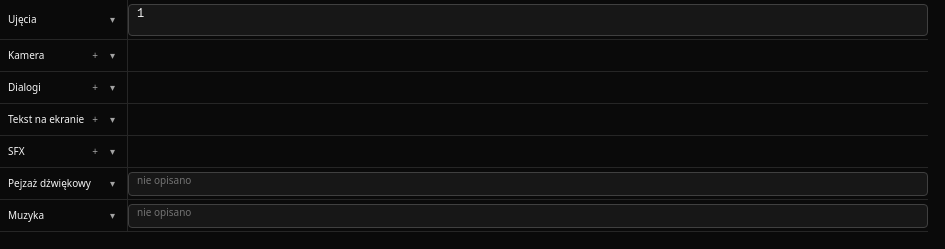
Test: TrackStack › zwinięcie i rozwinięcie wraca do stanu wyjściowego
This screenshot has width=945, height=249.
Click the button named "zwiń ścieżkę kamera" at (112, 55), box [110,48,115,62]
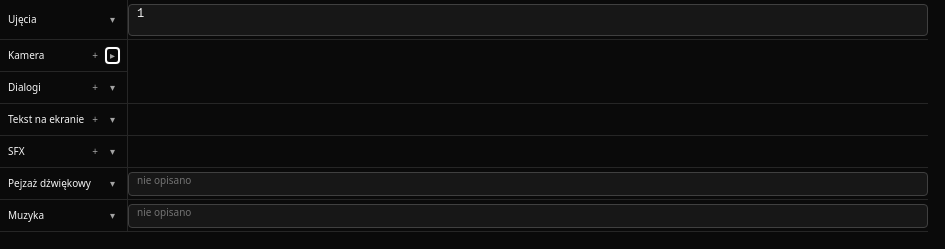
Click the button named "rozwiń ścieżkę kamera" at (112, 55), box [110,48,115,62]
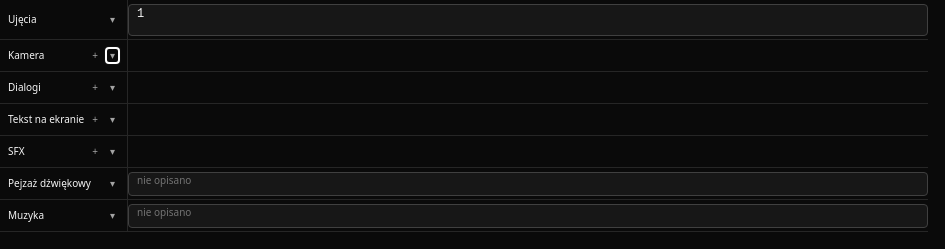
Expected: the element named "kamera" is shown, [128,40,928,72]
